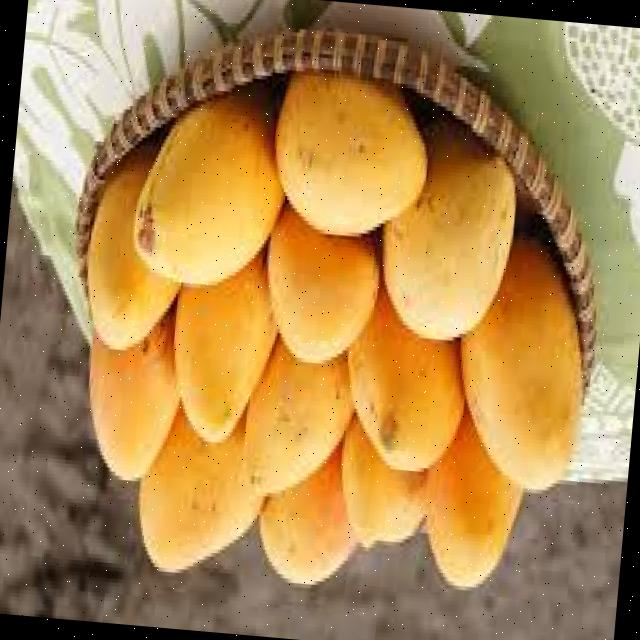mango: (378, 87, 516, 339)
